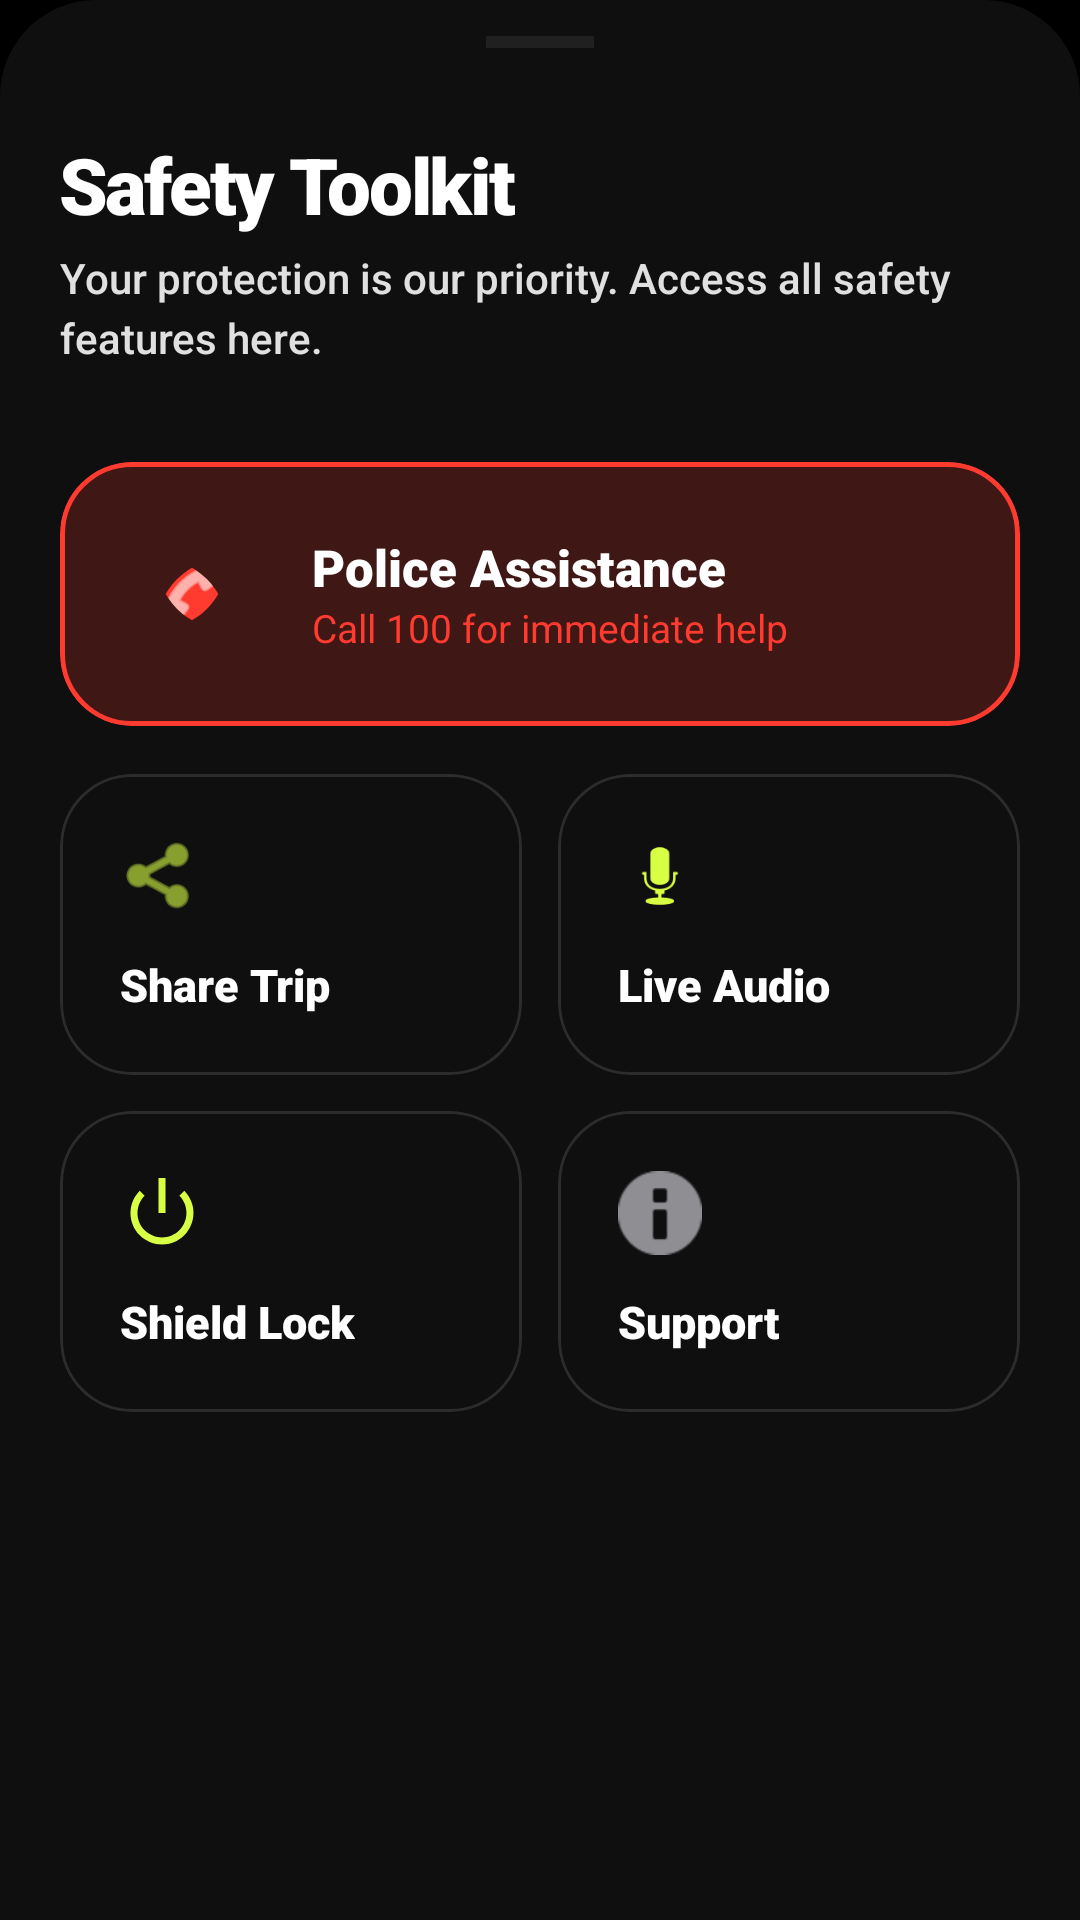

Icon bounding boxes for this 1080x1920 phone screenshot, format BBox(x1, y1, x2, y2):
info: BBox(618, 1171, 702, 1255)
lock power off: BBox(130, 1178, 194, 1245)
speak now: BBox(641, 847, 679, 905)
